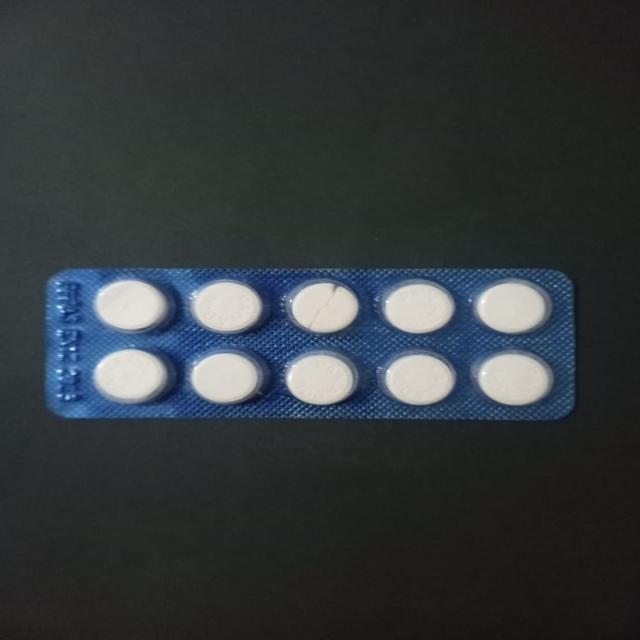defect: (283, 278, 362, 338)
